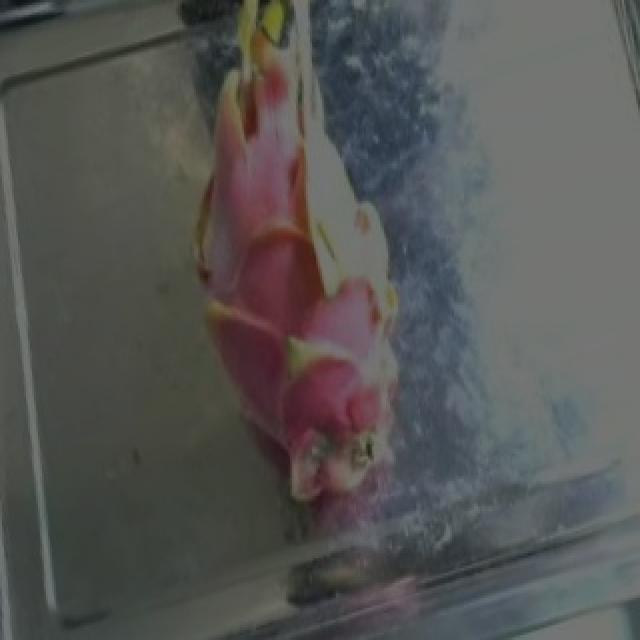fruit: (134, 164, 484, 558), (118, 3, 392, 424)
